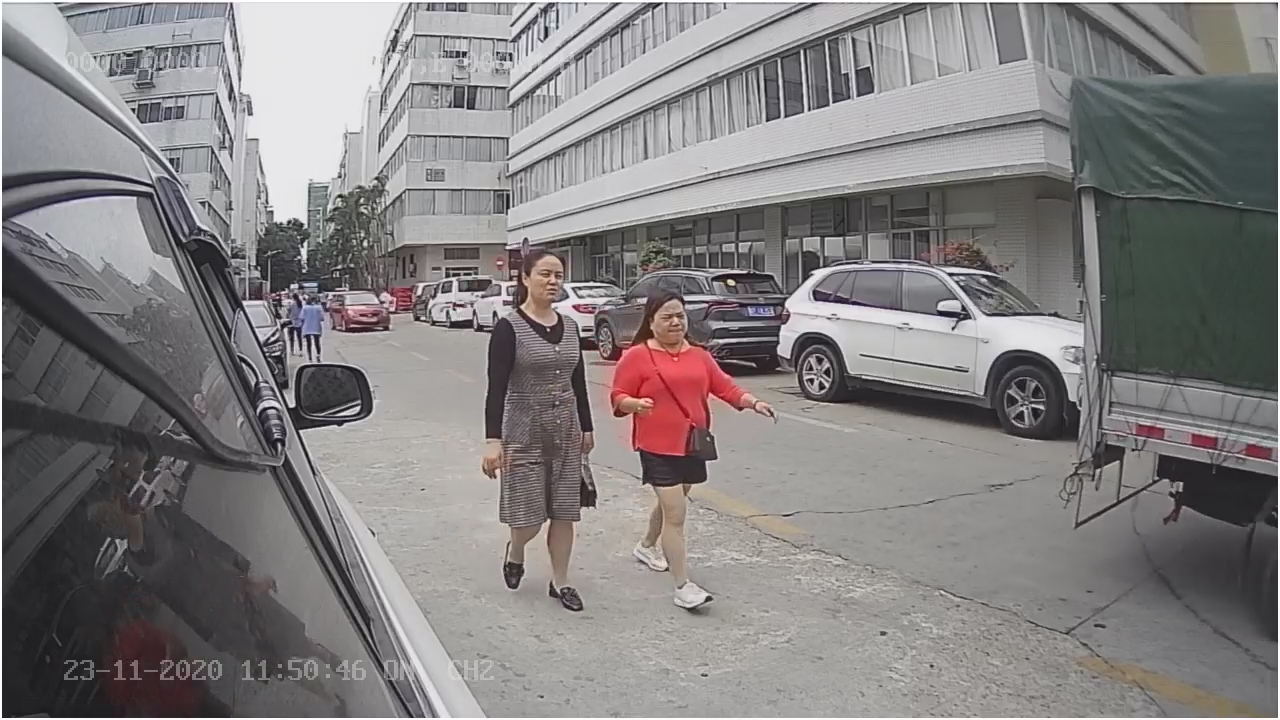person: (612, 287, 779, 607), (482, 241, 596, 608)
